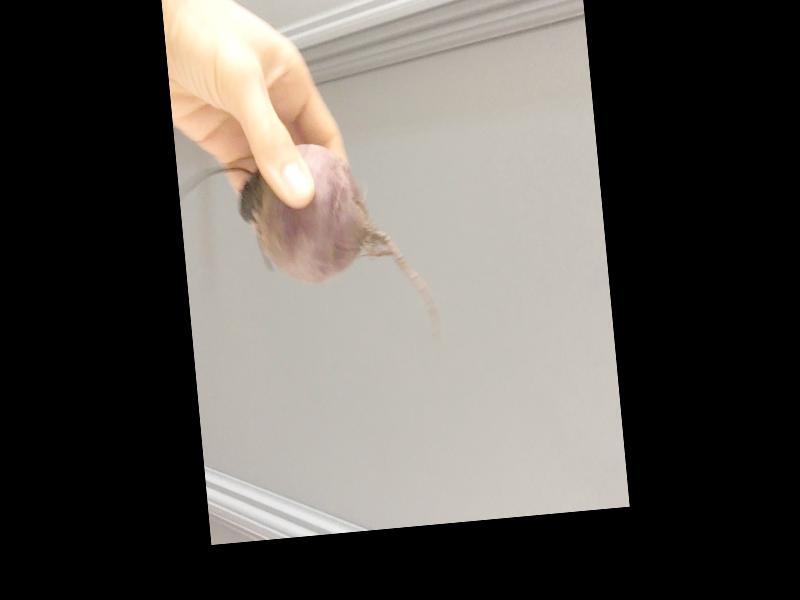Beet: (175, 134, 440, 365)
